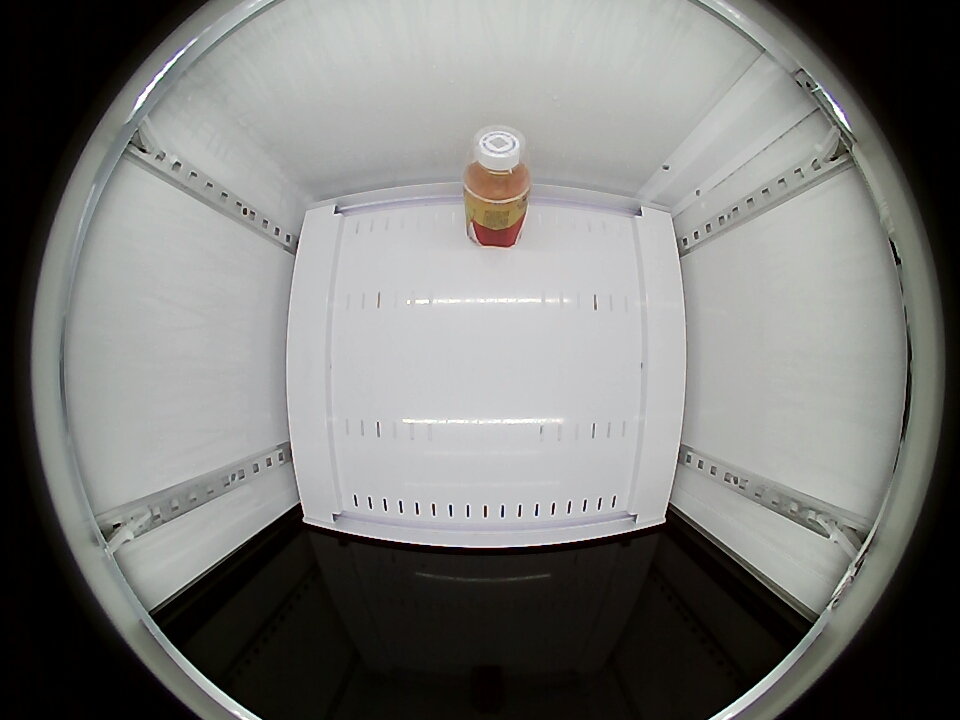dongpeng-b: (463, 126, 532, 209)
